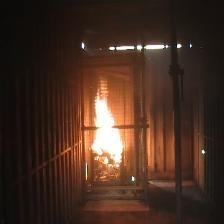fire: (86, 76, 130, 172)
